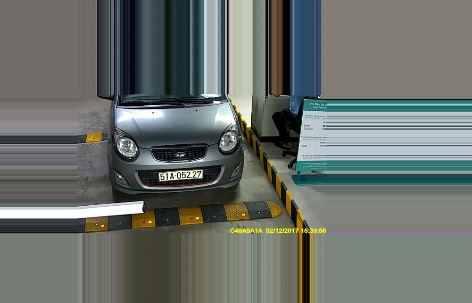plate: (156, 166, 207, 180)
